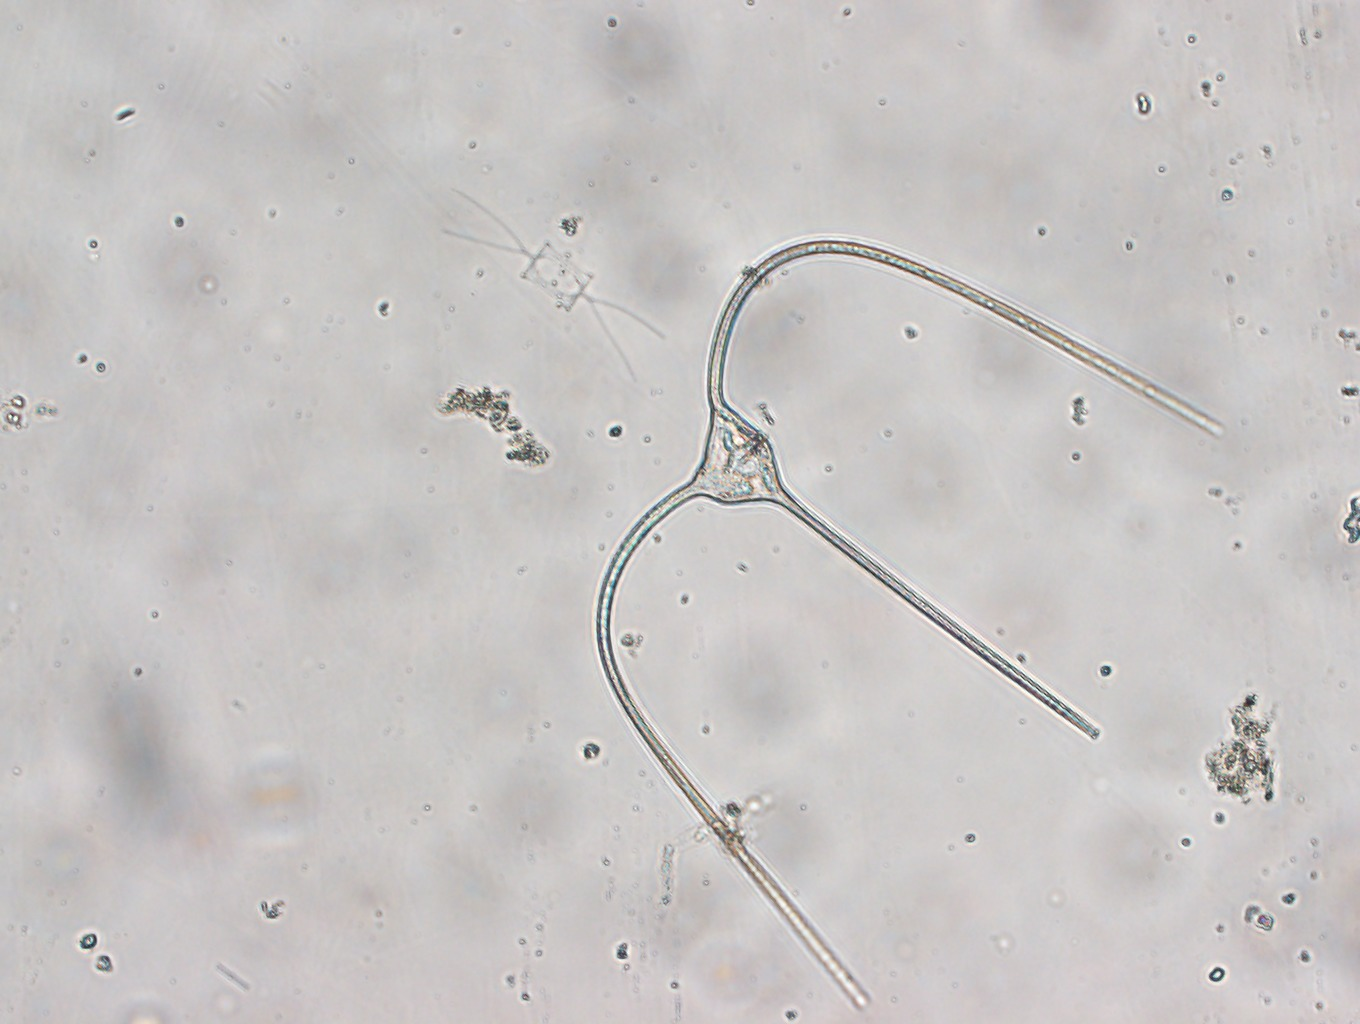ceratium trichoceros: (595, 236, 1222, 1012)
chaetoceros: (440, 185, 664, 386)
